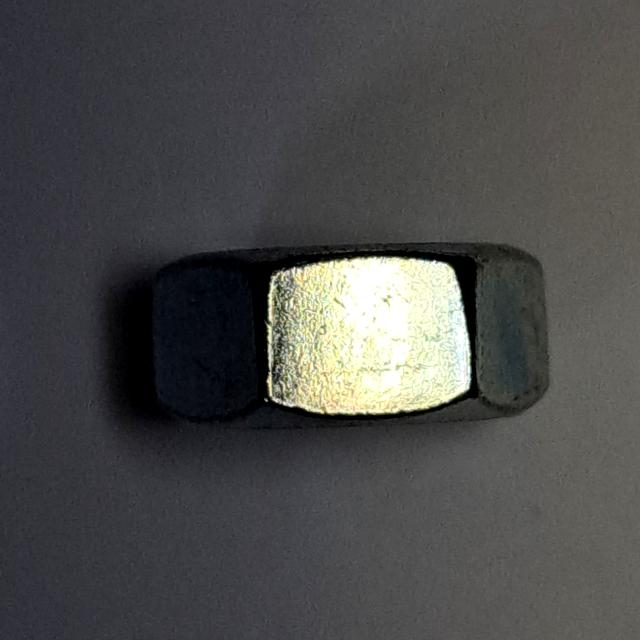Side_Excellent: (143, 222, 567, 452)
